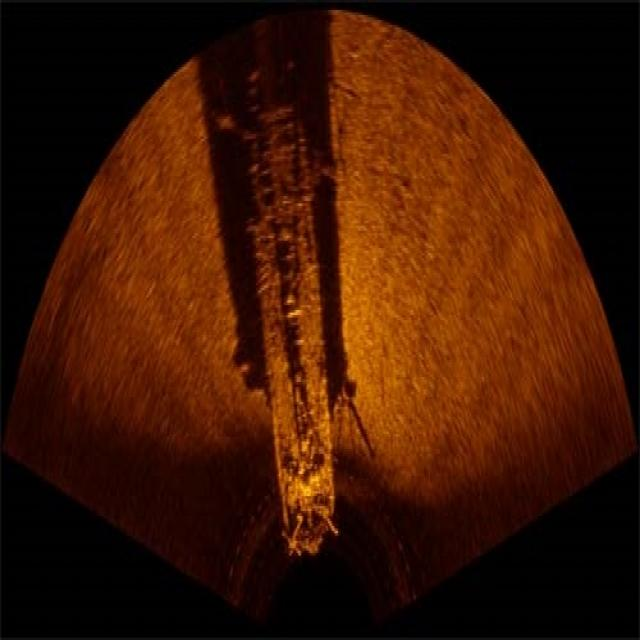ship: (236, 42, 354, 568)
